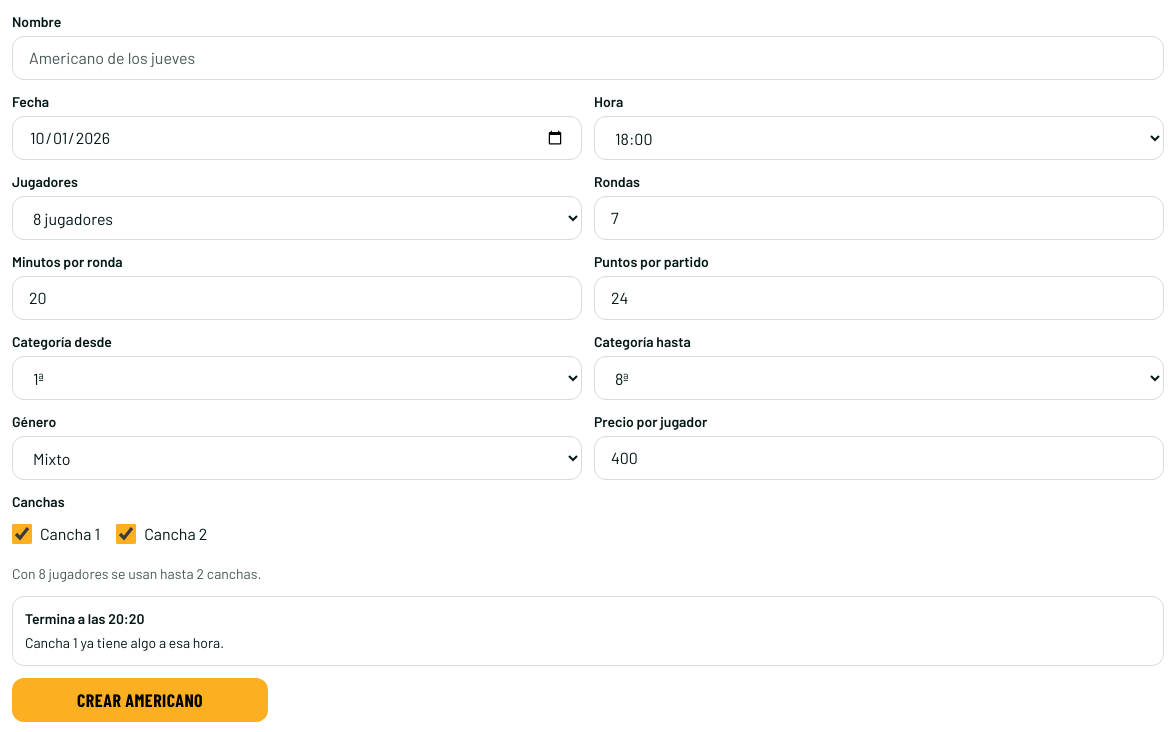
Test: NewTournamentForm › updates the end and the warnings as the choices change
Select "08:00" in the dropdown labelled "Hora" at (879, 138), box [594,116,1164,160]
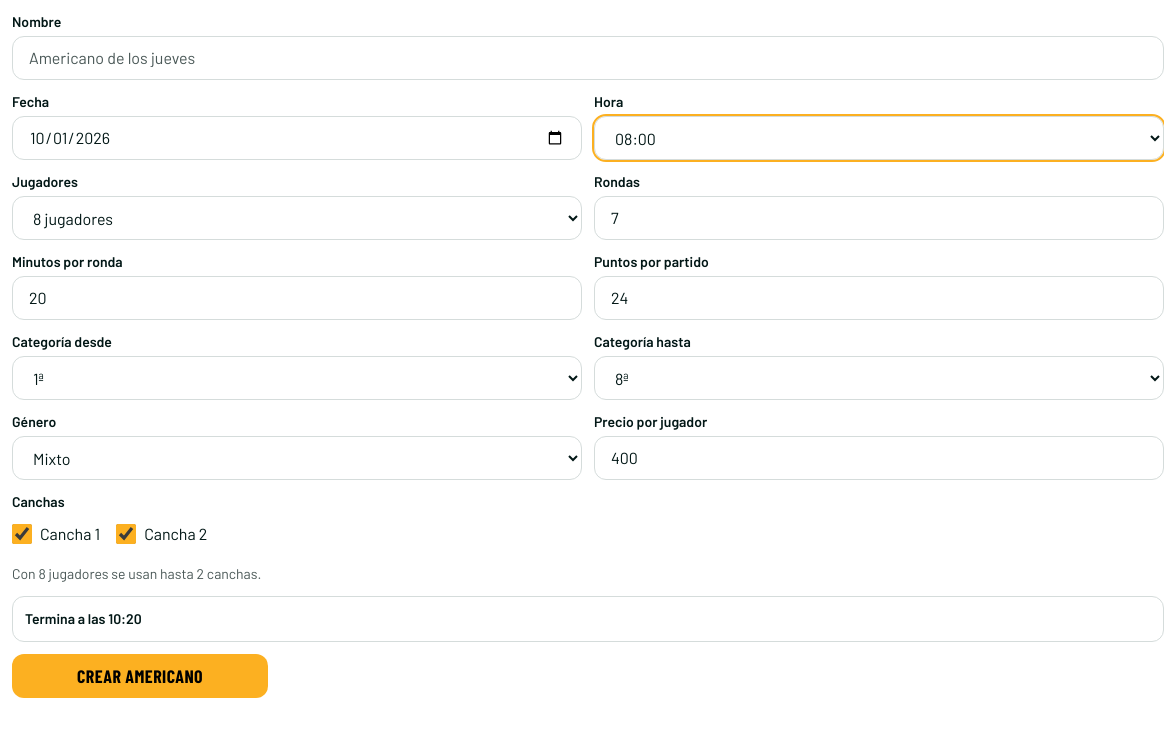
Expected: the element showing "Termina a las 10:20" is shown, [12,596,1164,642]
Expected: the element showing "Termina a las 10:20" no longer shows "ya tiene", [12,596,1164,642]
Select "12 jugadores" in the dropdown labelled "Jugadores" at (297, 218), box [12,196,582,240]
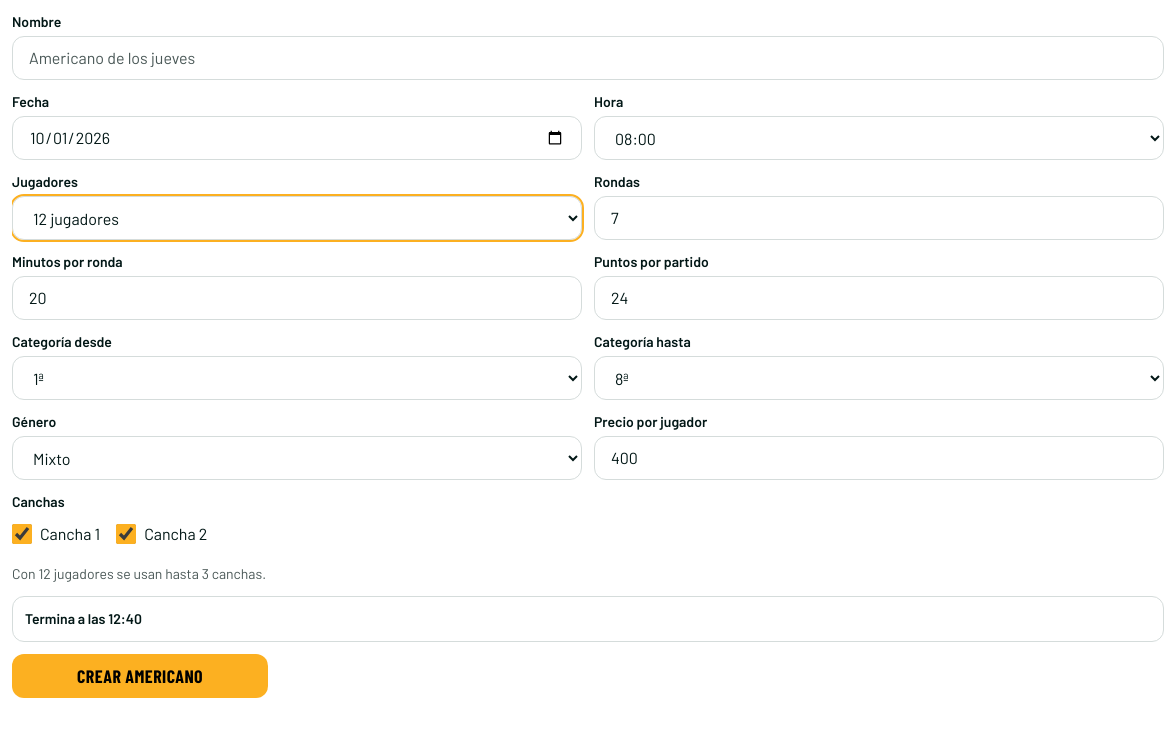
Expected: the element showing "Termina a las 12:40" is shown, [12,596,1164,642]
Click the checkbox labelled "Cancha 2".
click(126, 534)  # box [116,524,136,544]
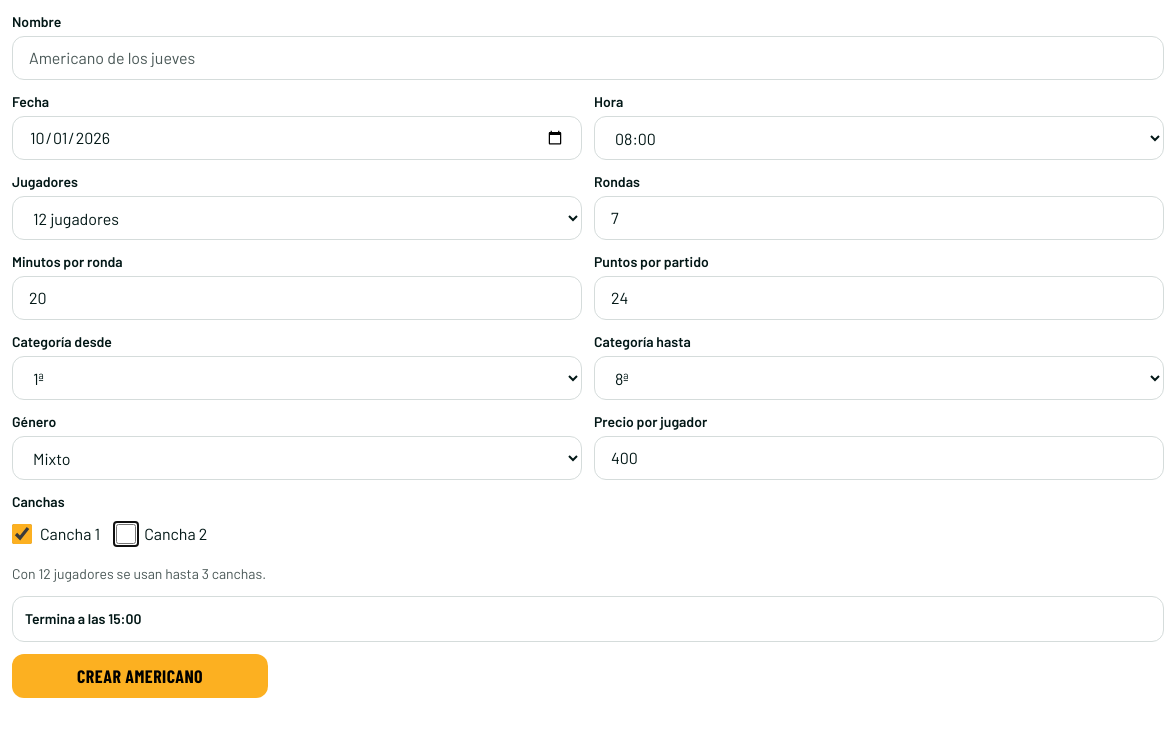
Expected: the element showing "Termina a las 15:00" is shown, [12,596,1164,642]
Select "21:30" in the dropdown labelled "Hora" at (879, 138), box [594,116,1164,160]
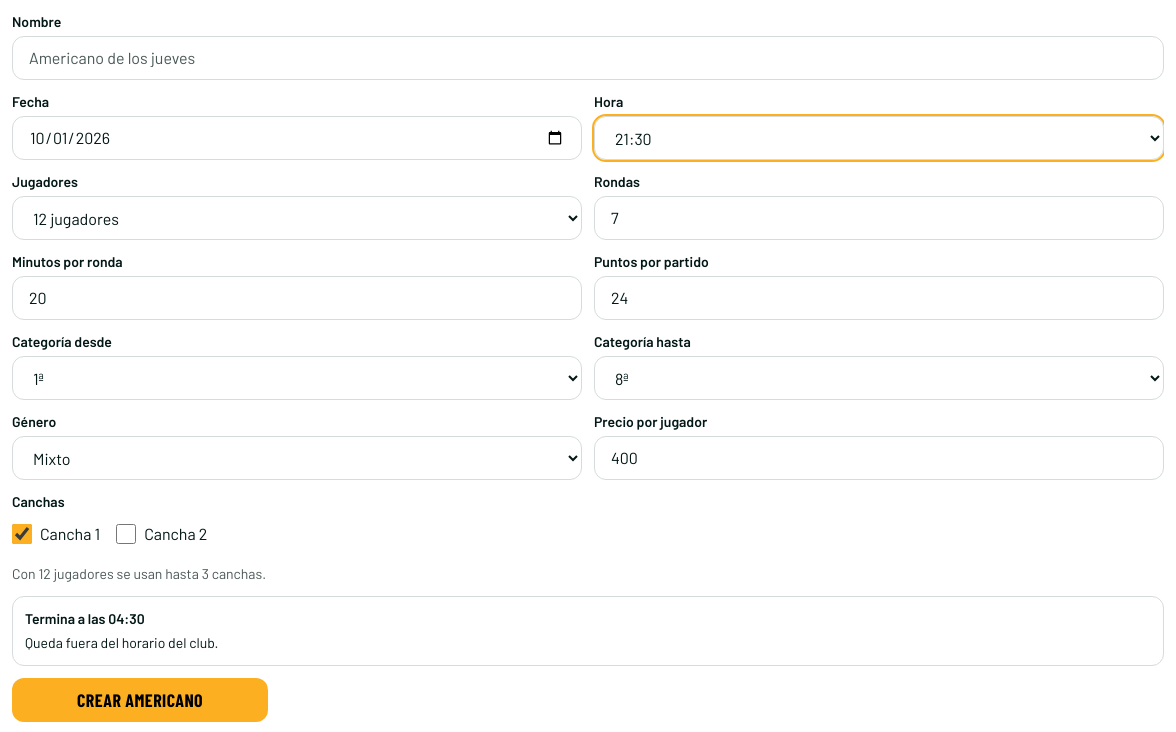
Expected: the element showing "Termina a las 04:30 Queda fuera del horario del club." is shown, [12,596,1164,666]
